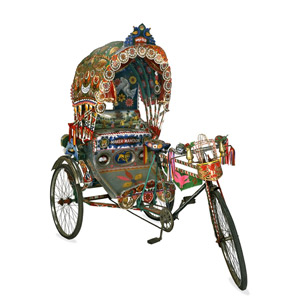Rickshaw: (58, 33, 260, 300)
